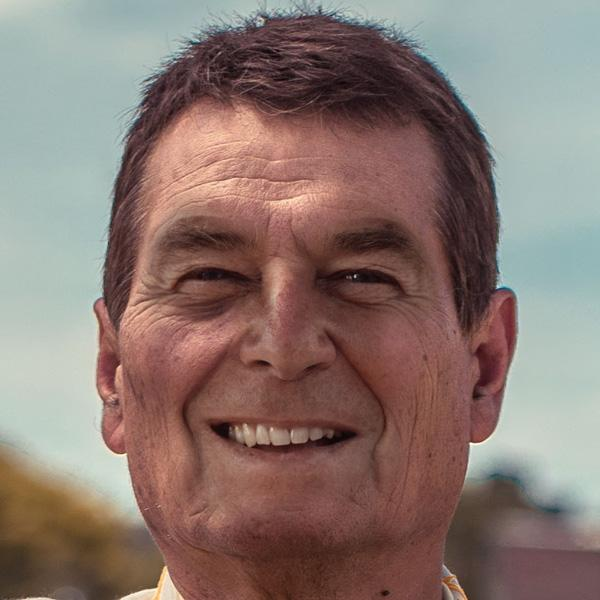Eyes: (312, 253, 409, 306), (165, 252, 258, 303)
